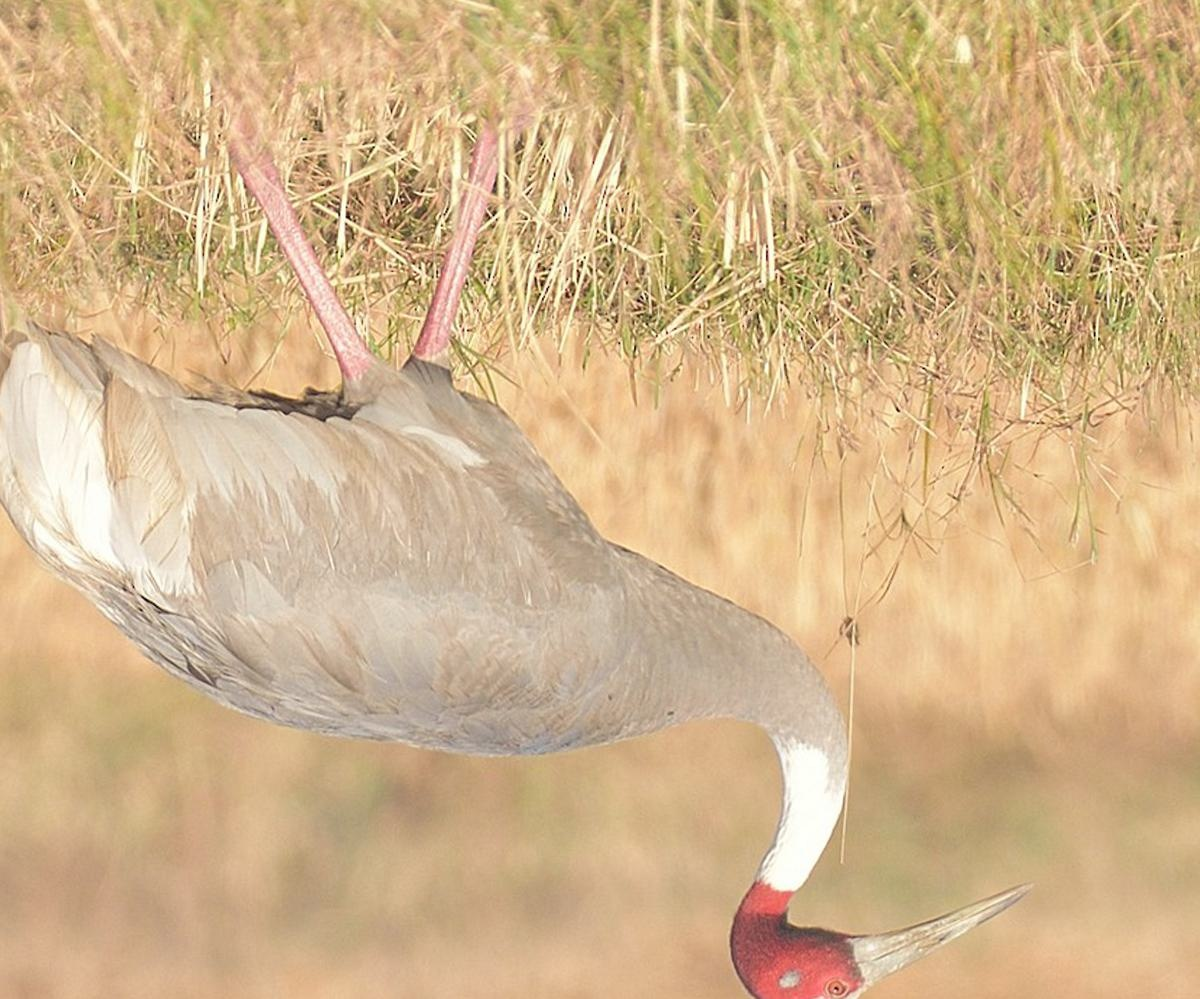crane: (1, 99, 1036, 996)
